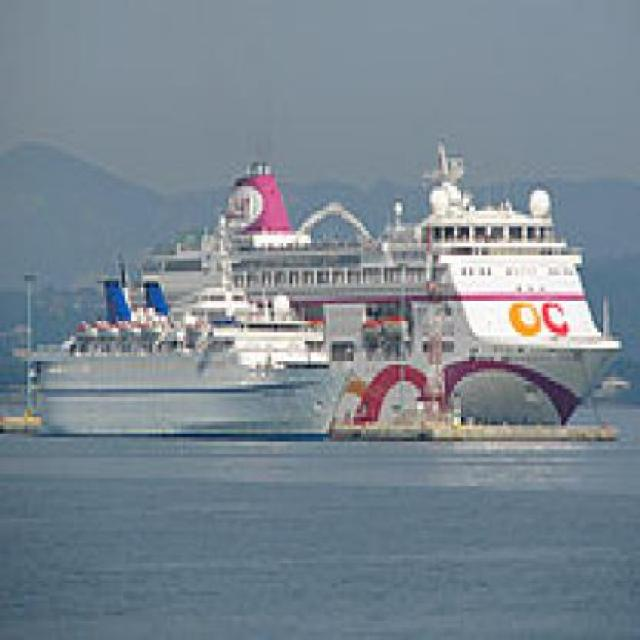cruise: (141, 171, 607, 451), (38, 281, 349, 447)
